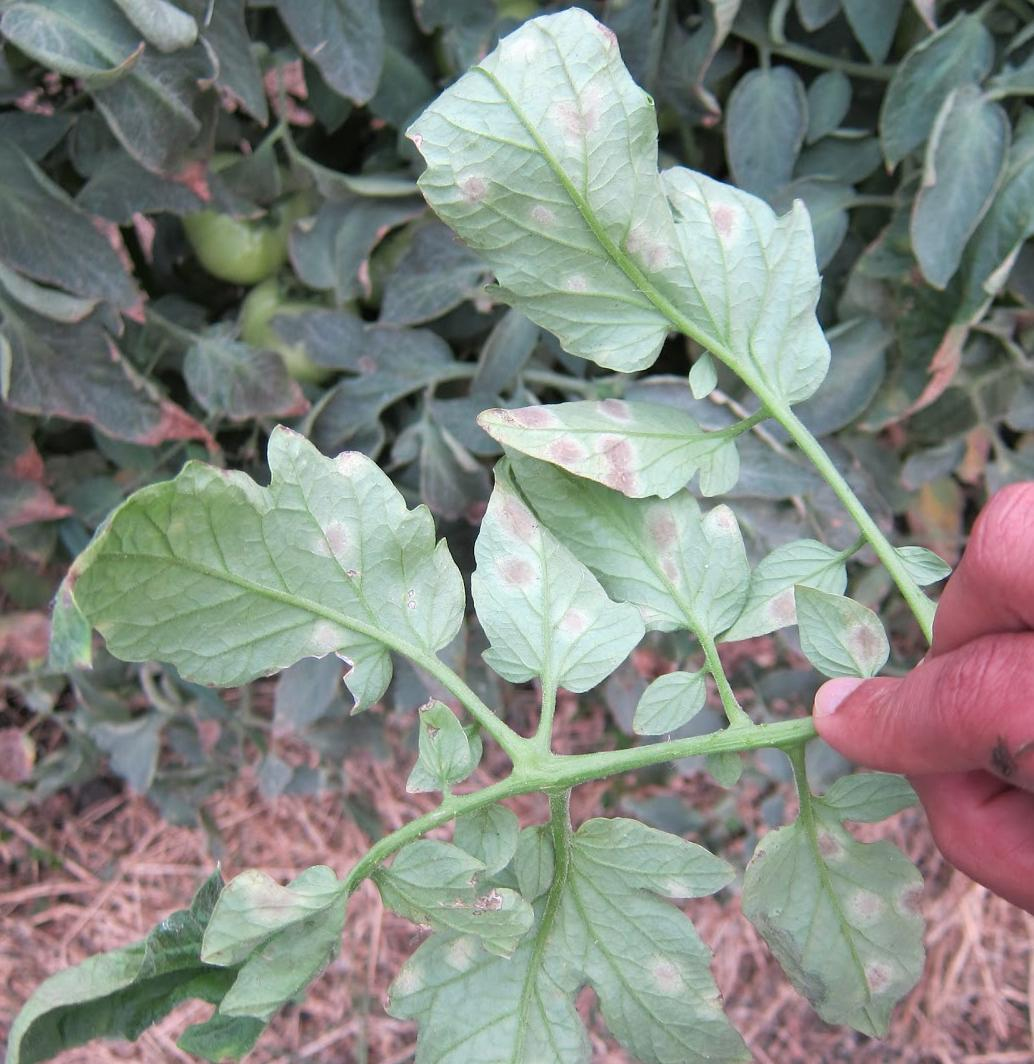Tomato mold leaf: (401, 0, 819, 412), (0, 423, 467, 700), (397, 822, 749, 1064), (0, 855, 347, 1064), (500, 431, 755, 649), (731, 772, 931, 1045), (458, 451, 660, 701), (463, 367, 766, 494), (367, 830, 527, 964), (772, 559, 896, 680)
